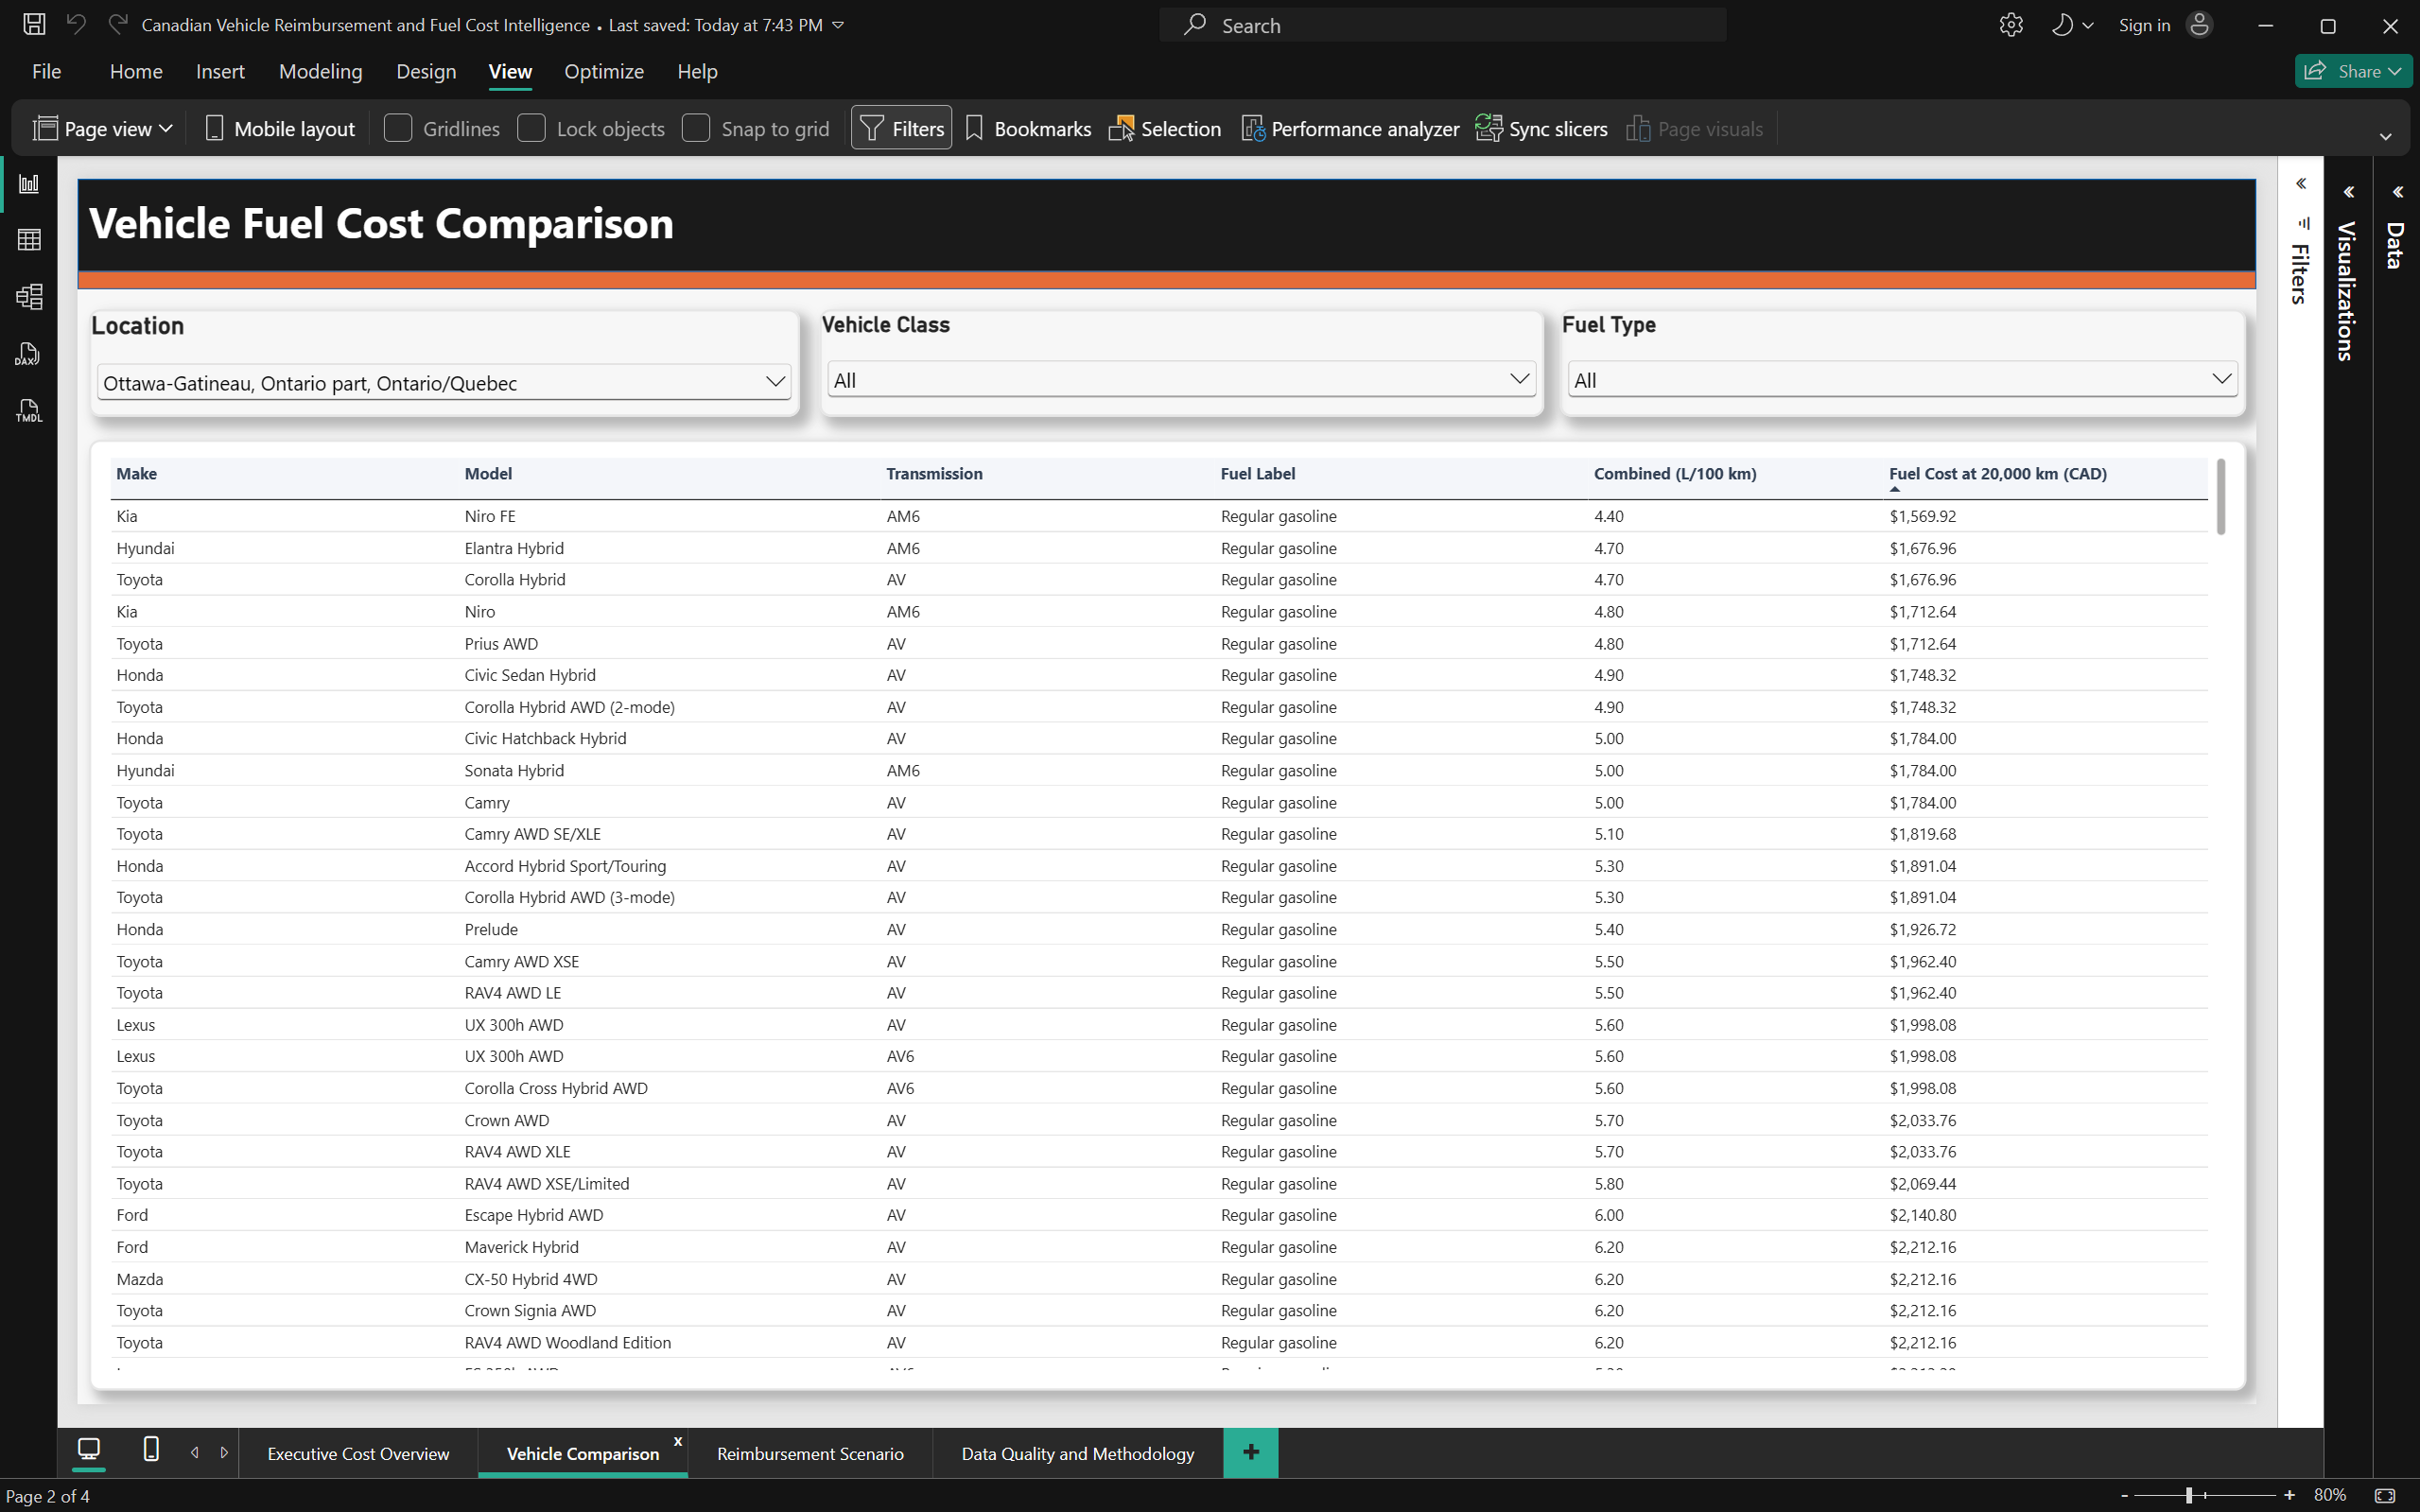

The page's visual inventory and layout, read from the dashboard file:
{"tool":"powerbi","page":{"name":"Vehicle Comparison","canvas":[1920,1080],"ordinal":1},"visuals":[{"type":"slicer","title":"Location","fields":{"Values":["Vehicle Fuel Cost Scenarios.GEO"]},"box":[9.5,115,626.6,94.7],"z":0},{"type":"tableEx","fields":{"Values":["Vehicle Fuel Cost Scenarios.Make","Vehicle Fuel Cost Scenarios.Model","Vehicle Fuel Cost Scenarios.Transmission","Vehicle Fuel Cost Scenarios.Fuel Label","Vehicle Fuel Cost Scenarios.Combined (L/100 km)","Vehicle Fuel Cost Scenarios.Fuel Cost at 20,000 km (CAD)"]},"box":[9.5,230.1,1901.5,837.8],"z":1000},{"type":"slicer","title":"Vehicle Class","fields":{"Values":["Vehicle Fuel Cost Scenarios.Vehicle class"]},"box":[653.7,115,638.8,94.7],"z":2000},{"type":"slicer","title":"Fuel Type","fields":{"Values":["Vehicle Fuel Cost Scenarios.Fuel Label"]},"box":[1306,115,605,94.7],"z":3000},{"type":"shape","box":[0,0,1920,97.5],"z":4000},{"type":"shape","box":[0,81.2,1920,16.2],"z":5000},{"type":"textbox","box":[9.5,12.2,535.9,55.5],"z":6000}]}

Visuals, with their boxes on the page's 1920x1080 design canvas (x1, y1, x2, y2). These are canvas units, not pixel positions in the 2420x1512 screenshot, which may show the page scaled, cropped or inside an application window:
"Location" slicer: x1=10 y1=115 x2=636 y2=210
tableEx - Vehicle Fuel Cost Scenarios.Make x Vehicle Fuel Cost Scenarios.Model: x1=10 y1=230 x2=1911 y2=1068
"Vehicle Class" slicer: x1=654 y1=115 x2=1292 y2=210
"Fuel Type" slicer: x1=1306 y1=115 x2=1911 y2=210
shape: x1=0 y1=0 x2=1920 y2=98
shape: x1=0 y1=81 x2=1920 y2=97
textbox: x1=10 y1=12 x2=545 y2=68
